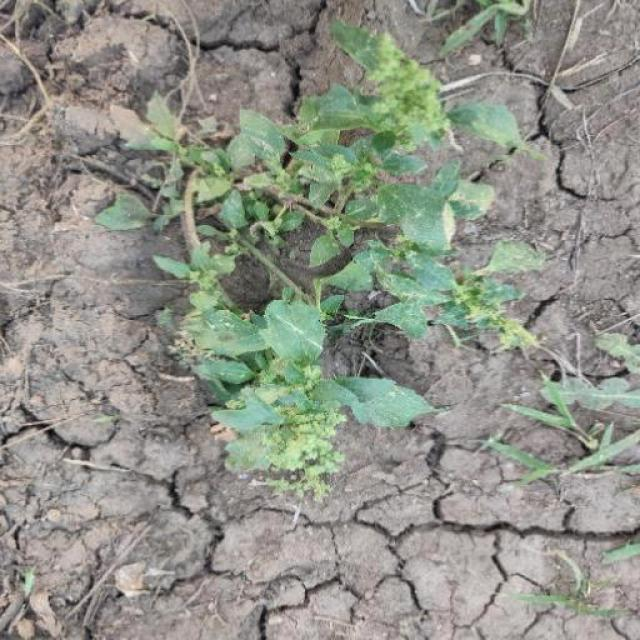weed: (101, 48, 544, 486)
